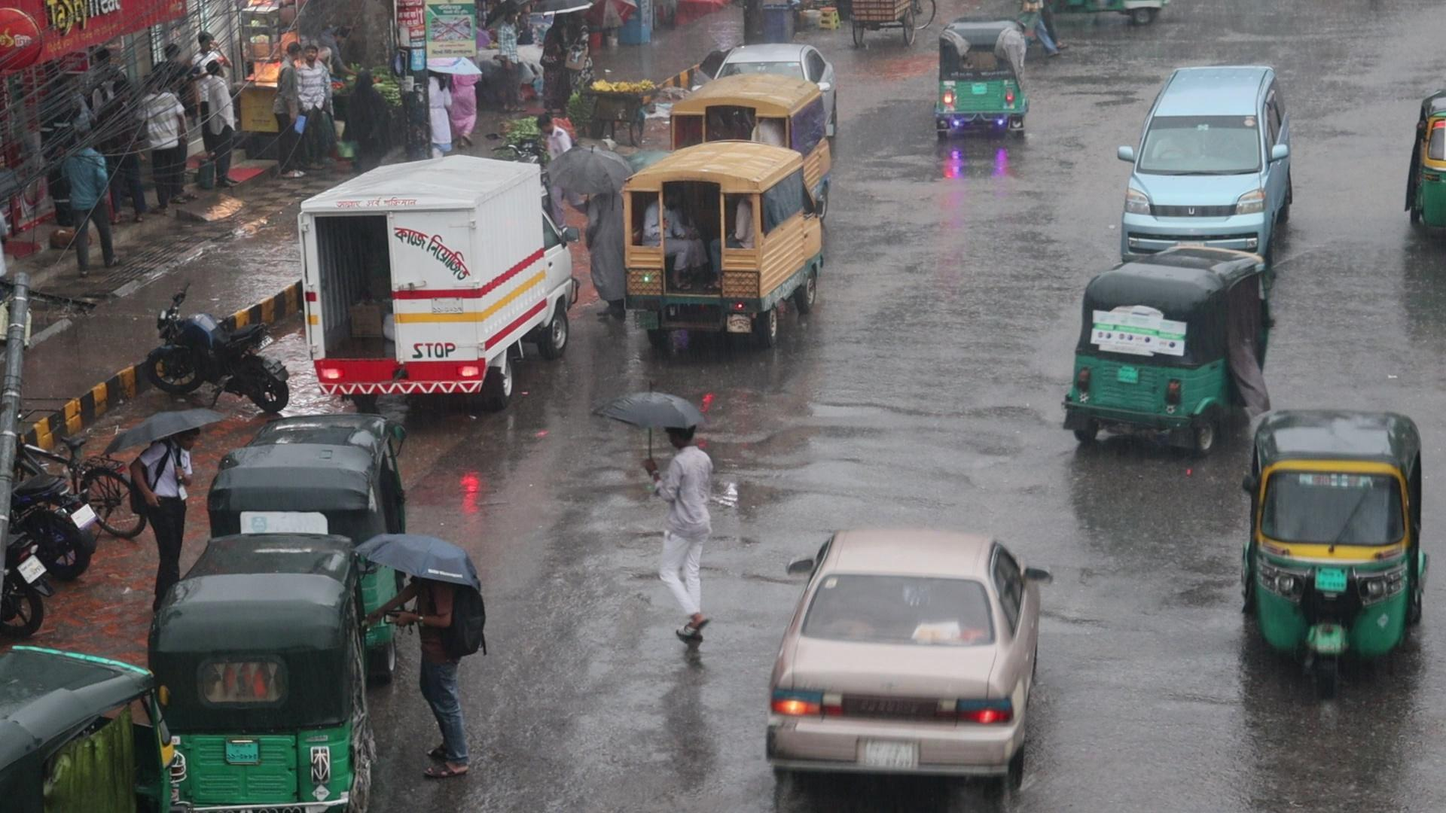Car: (757, 515, 1051, 810), (1116, 66, 1297, 265)
Truck: (615, 124, 828, 353)
